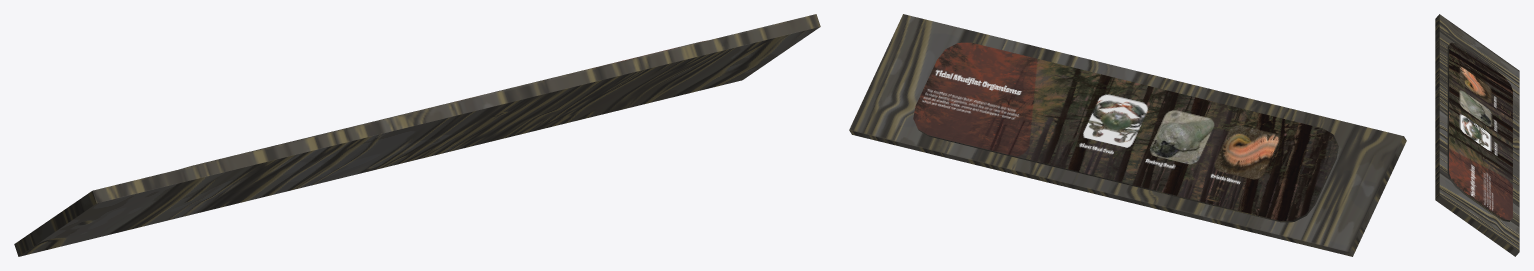
File: MudflatOrganism.fbx
3 views of the same model, side by side, from view 1: azimuth 30°, elevation 25°; view 2: azimuth 150°, elevation 25°; view 3: azimuth 270°, elevation 25° (orthographic). The views are drawn at different scales.
Parts seen in each view (by area): view 1: MudflatOrganisms; view 2: MudflatOrganisms; view 3: MudflatOrganisms.
Boxes of the visible parts, x1=… form: MudflatOrganisms: x1=14, y1=14, x2=820, y2=256; MudflatOrganisms: x1=849, y1=14, x2=1406, y2=256; MudflatOrganisms: x1=1435, y1=14, x2=1519, y2=256.
Bounding box in the file's own units: 1.02 × 0.1623 × 0.2011.
1 material, 1 textured.
